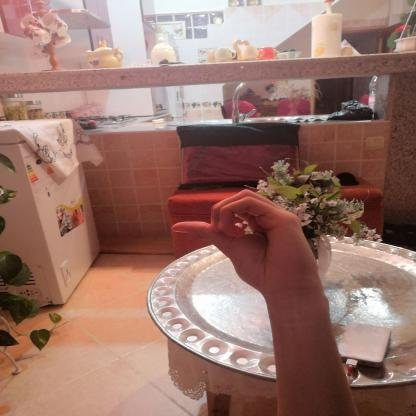WAW: (158, 180, 332, 306)
